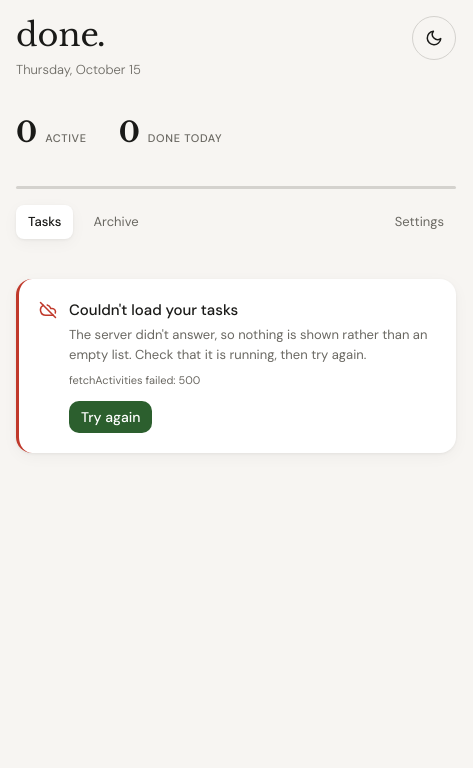
it: startup with the API down › shows an error with a retry instead of an empty list, and recovers
This screenshot has width=473, height=768.
Expected: the message shows "Couldn't load your tasks", 69,300 -> 238,320
Expected: the message shows "fetchActivities failed: 500", 69,373 -> 200,387
Click the button "Try again": (111, 417) 69,401 -> 152,433
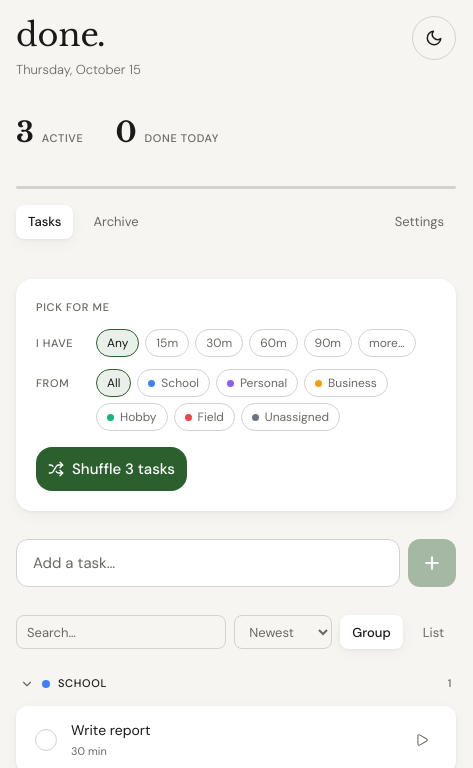
Result: the button "Shuffle 3 tasks" is shown at 36,447 -> 187,491
Result: the message is gone
